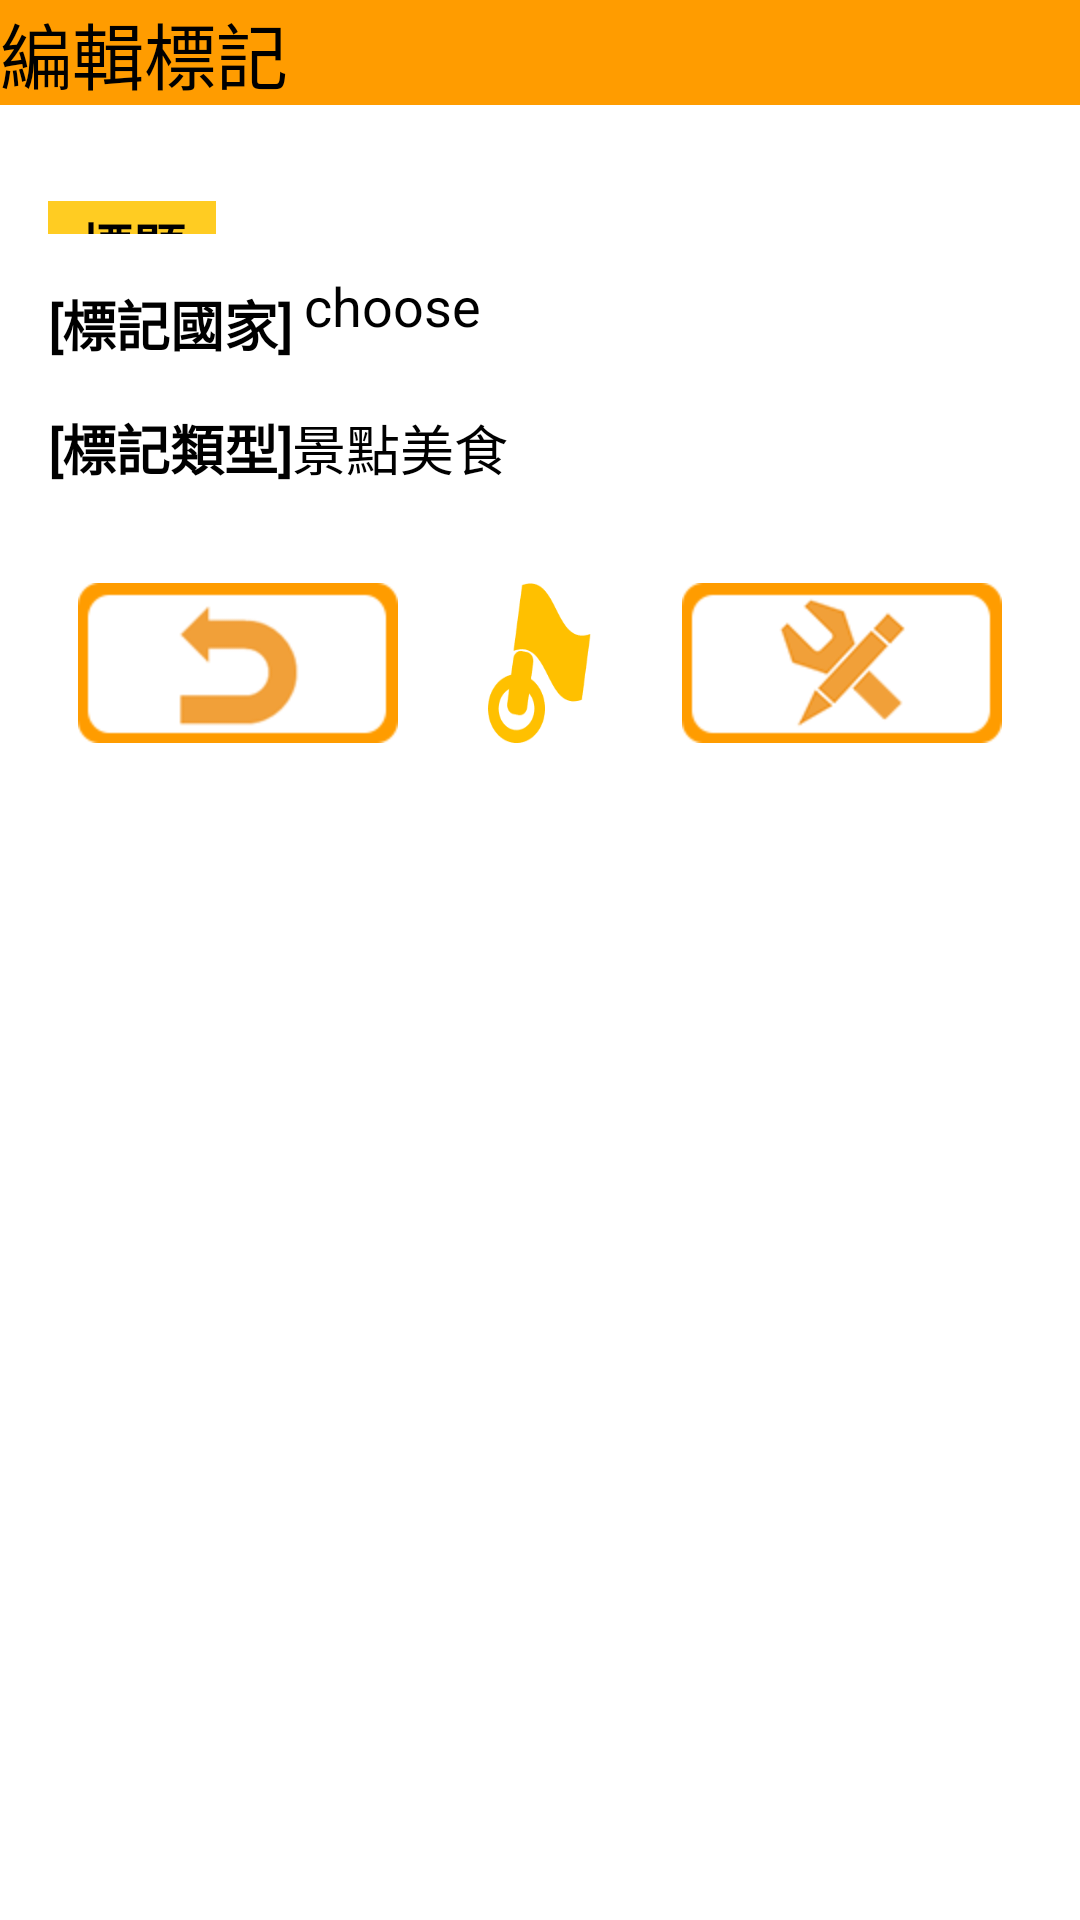

Where icons sit on this 1080 x 1920 app screen, as (x1, y1, x2, y2):
return click: (78, 583, 398, 743)
single location click: (488, 583, 591, 743)
